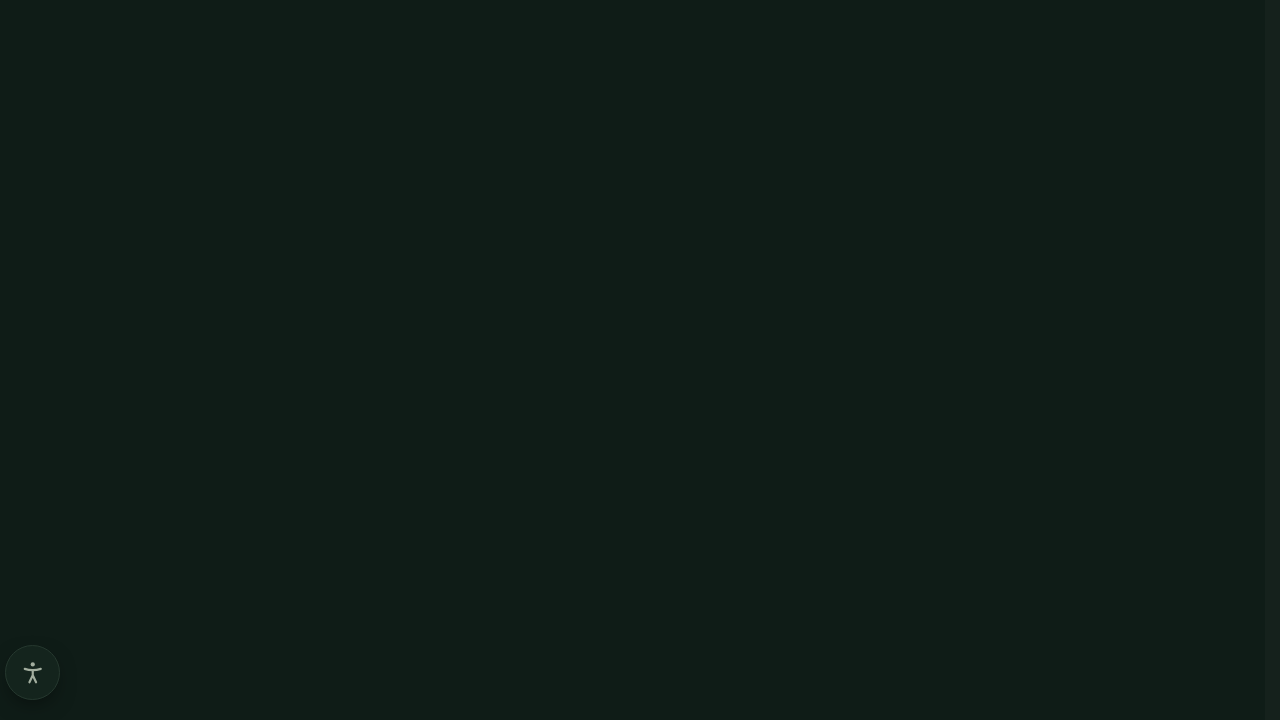
Scenario: AccessibilityWidget › restores saved settings on load and shows them in the menu
This screenshot has width=1280, height=720.
Click the button named "תפריט נגישות".
click(32, 672)  # box [5, 645, 60, 700]
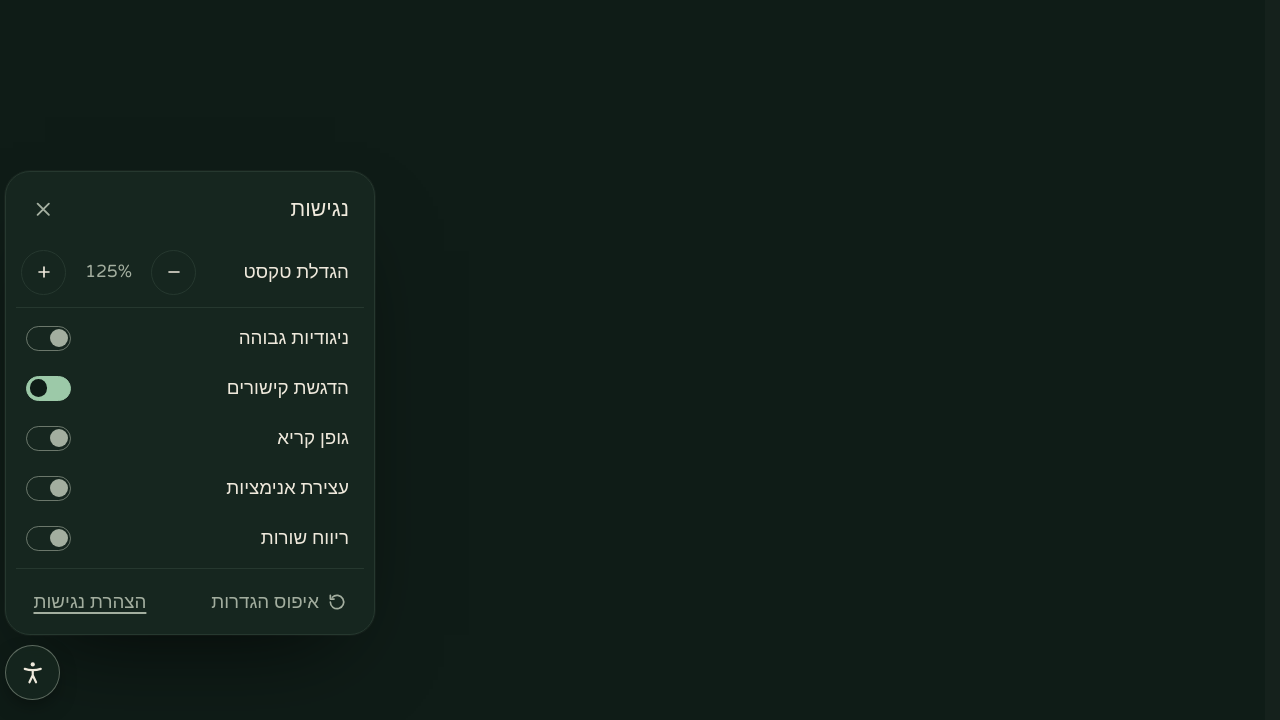
Now the element "הגדלת טקסט" shows "125%", box [85, 261, 132, 282]
